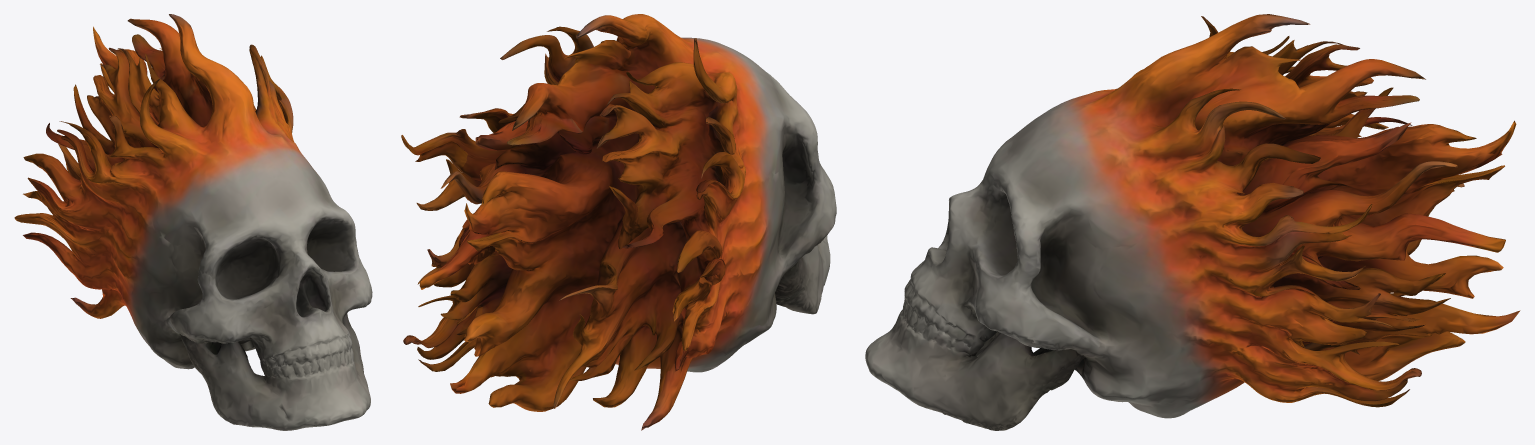
File: MZ4250 - Flameskull.glb
The picture shows the model from 3 angles, left to right: view 1: azimuth 30°, elevation 25°; view 2: azimuth 150°, elevation 25°; view 3: azimuth 270°, elevation 25°; orthographic projection. The views are drawn at different scales.
Visible parts, largest first — view 1: MZ4250 Flameskull; view 2: MZ4250 Flameskull; view 3: MZ4250 Flameskull.
Part boxes in pixels (x1=…): MZ4250 Flameskull: x1=14, y1=14, x2=372, y2=430; MZ4250 Flameskull: x1=401, y1=14, x2=836, y2=430; MZ4250 Flameskull: x1=865, y1=14, x2=1520, y2=430.
Size of the model in its own units: 0.2202 by 0.2633 by 0.4142.
1 material, 1 textured.
